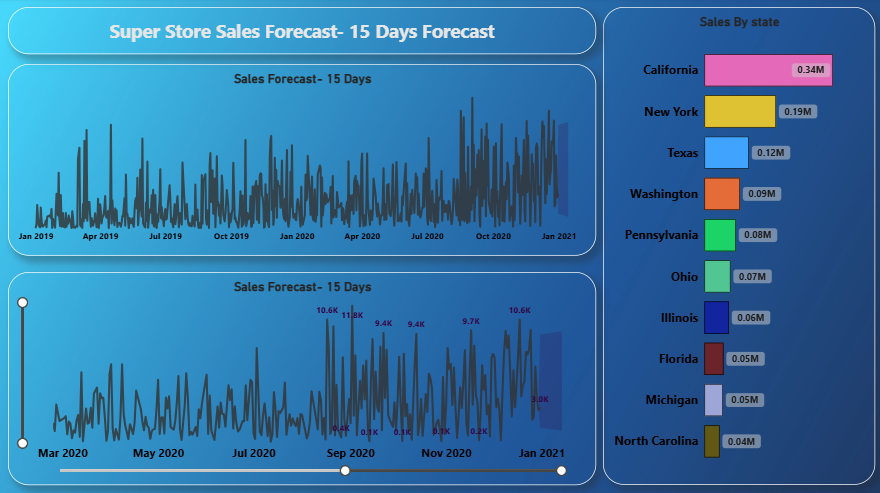

The dashboard page shown, as its layout file describes it:
{"tool":"powerbi","page":{"name":"Page 2","canvas":[1280,720],"ordinal":1},"visuals":[{"type":"lineChart","title":"Sales Forecast- 15 Days","fields":{"Y":["Sum(SuperStore_Sales_Dataset.Sales)"],"Category":["SuperStore_Sales_Dataset.Order Date"]},"box":[15.8,95,846.7,276.5],"z":0},{"type":"lineChart","title":"Sales Forecast- 15 Days","fields":{"Y":["Sum(SuperStore_Sales_Dataset.Sales)"],"Category":["SuperStore_Sales_Dataset.Order Date"]},"box":[15.8,394.6,846.7,306.7],"z":1000},{"type":"clusteredBarChart","title":"Sales By state","fields":{"Category":["SuperStore_Sales_Dataset.State"],"Y":["Sum(SuperStore_Sales_Dataset.Sales)"]},"box":[872.6,13,391.7,688.3],"z":2000},{"type":"textbox","box":[15.8,13,846.7,67.7],"z":3000}]}

Visuals, with their boxes in screenshot pixels (x1, y1, x2, y2), scaled from the page's 1280x720 canvas onto the 880x493 screenshot:
"Sales Forecast- 15 Days" lineChart: 11:65:593:254
"Sales Forecast- 15 Days" lineChart: 11:270:593:480
"Sales By state" clusteredBarChart: 600:9:869:480
textbox: 11:9:593:55
